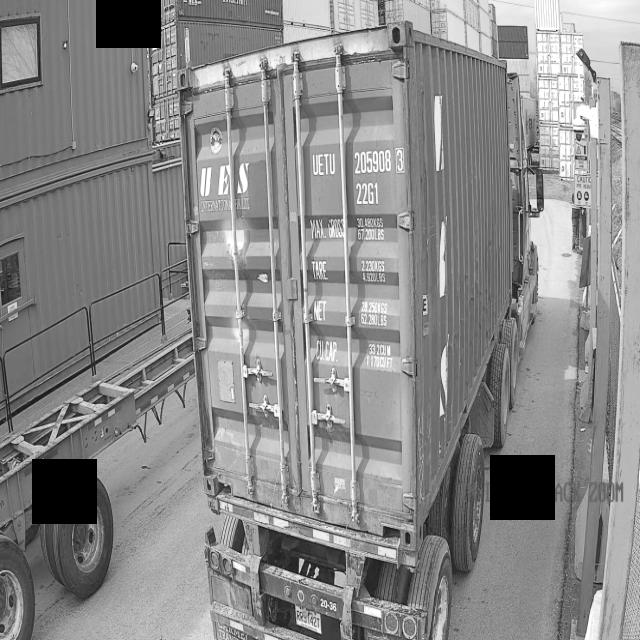container_company_logo: (197, 152, 256, 211)
container_number: (311, 146, 404, 213)
license_plate: (289, 604, 330, 636)
other_container_info: (305, 208, 395, 368)
truck_with_container: (180, 22, 543, 640)
truck_without_container: (0, 334, 194, 640)
